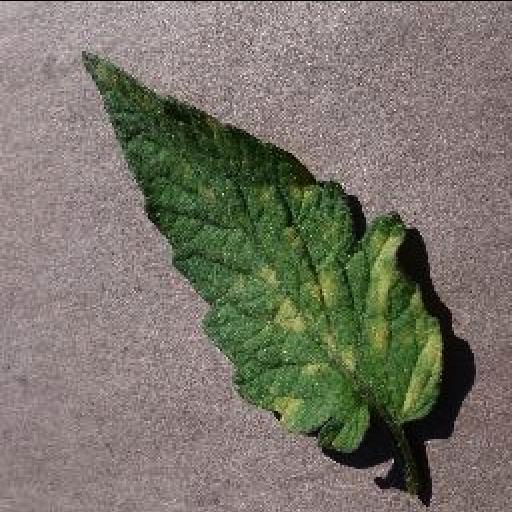disease_tomato: (81, 48, 443, 450)
